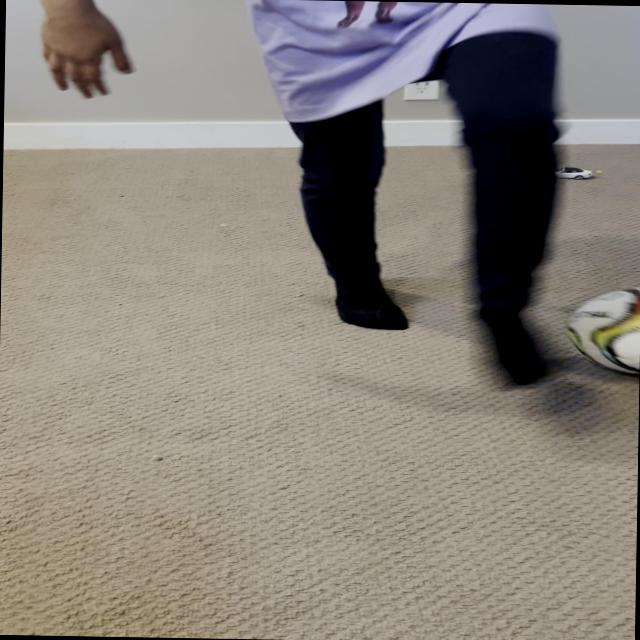Soccer Ball: (565, 285, 640, 374)
